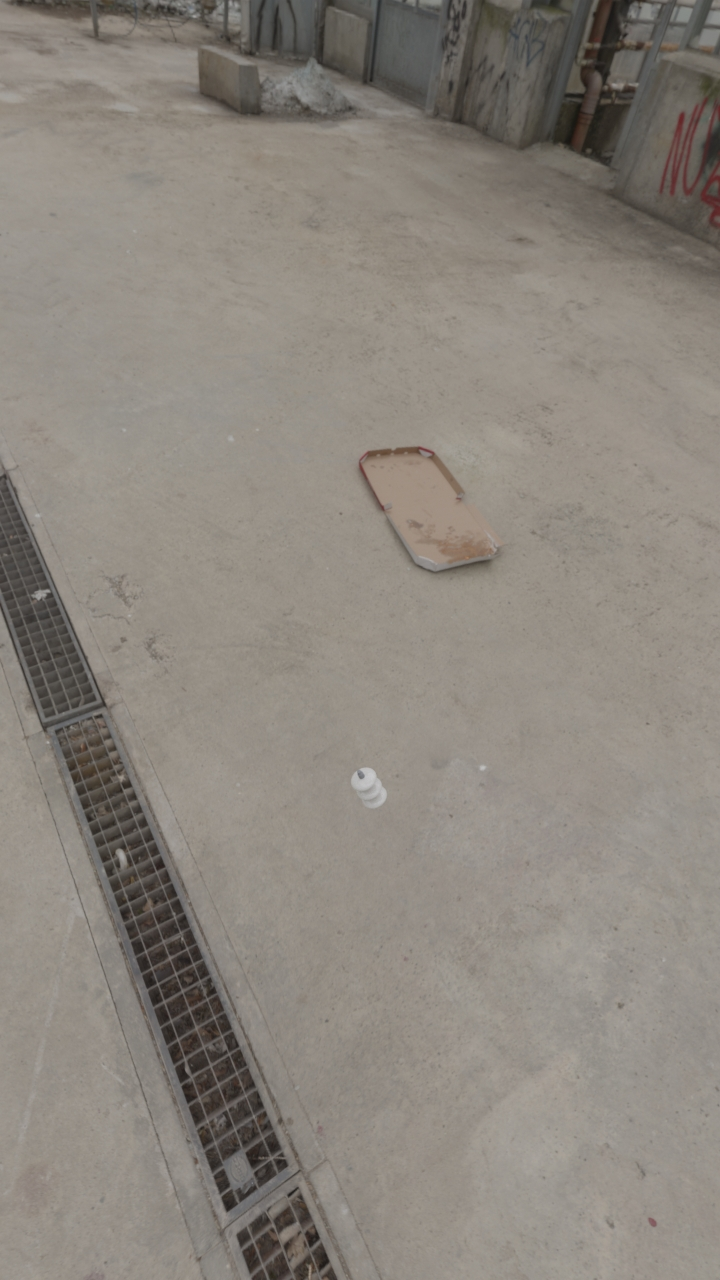ceramicinsulators: (351, 768, 387, 809)
